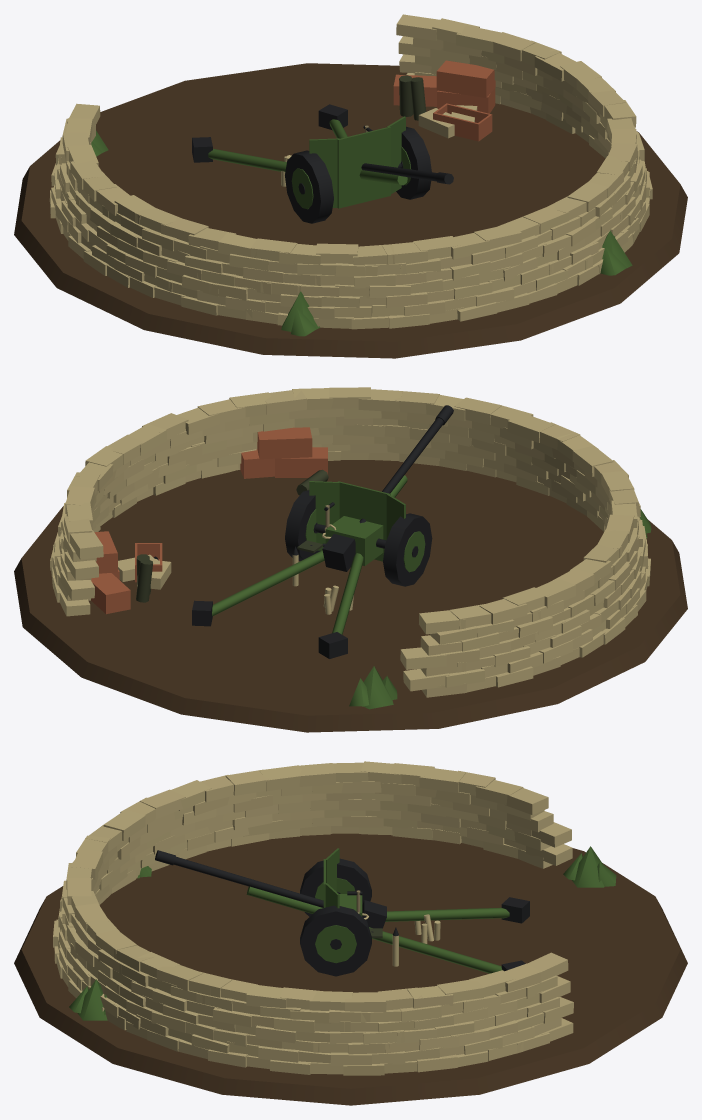
File: 105mm-howitzer-emplacement.glb
3 renders of one model, top to bottom at view 1: azimuth 30°, elevation 25°; view 2: azimuth 150°, elevation 25°; view 3: azimuth 270°, elevation 25°, orthographic.
Visible parts, largest first — view 1: Mesh_MudBase, Mesh_ShieldCenter, Mesh_TireR, Mesh_CrateStack1, Mesh_TireL, Mesh_ShieldRight, Mesh_TrailR, Mesh_Sandbag_6_0, Mesh_CrateBase, Mesh_Sandbag_6_2, Mesh_Sandbag_6_24, Mesh_Sandbag_6_22 (+31 smaller); view 2: Mesh_MudBase, Mesh_TireR, Mesh_ShieldCenter, Mesh_CrateStack5, Mesh_Carriage, Mesh_TrailL, Mesh_TireL, Mesh_CrateStack2, Mesh_ShieldLeft, Mesh_CrateStack3, Mesh_Breech, Mesh_TrailR (+40 smaller); view 3: Mesh_MudBase, Mesh_TireL, Mesh_TireR, Mesh_TrailR, Mesh_TrailL, Mesh_Barrel, Mesh_RimL, Mesh_Sandbag_6_35, Mesh_Sandbag_6_30, Mesh_Bush2_1, Mesh_Sandbag_6_38, Mesh_Sandbag_6_9 (+40 smaller).
Part boxes in pixels (box(x1,y1,x2,y2)): Mesh_MudBase: box(14, 63, 687, 358); Mesh_ShieldCenter: box(337, 126, 390, 208); Mesh_TireR: box(285, 150, 333, 223); Mesh_CrateStack1: box(436, 60, 495, 97); Mesh_TireL: box(396, 126, 431, 199); Mesh_ShieldRight: box(309, 138, 339, 207); Mesh_TrailR: box(208, 148, 286, 171); Mesh_Sandbag_6_0: box(396, 14, 439, 40); Mesh_CrateBase: box(437, 88, 495, 113); Mesh_Sandbag_6_2: box(456, 25, 500, 52); Mesh_Sandbag_6_24: box(316, 243, 358, 263); Mesh_Sandbag_6_22: box(381, 242, 427, 264); Mesh_MudBase: box(14, 460, 687, 732); Mesh_TireR: box(383, 513, 432, 586); Mesh_ShieldCenter: box(338, 481, 390, 561); Mesh_CrateStack5: box(257, 427, 312, 459); Mesh_Carriage: box(325, 516, 383, 565); Mesh_TrailL: box(212, 550, 324, 616); Mesh_TireL: box(285, 490, 320, 560); Mesh_CrateStack2: box(91, 573, 130, 614); Mesh_ShieldLeft: box(309, 481, 339, 550); Mesh_CrateStack3: box(275, 447, 327, 477); Mesh_Breech: box(322, 534, 355, 571); Mesh_TrailR: box(332, 553, 363, 634); Mesh_MudBase: box(14, 833, 687, 1105); Mesh_TireL: box(300, 905, 371, 976); Mesh_TireR: box(300, 858, 371, 916); Mesh_TrailR: box(385, 907, 509, 921); Mesh_TrailL: box(369, 927, 502, 973); Mesh_Barrel: box(173, 856, 323, 907); Mesh_RimL: box(315, 925, 356, 963); Mesh_Sandbag_6_35: box(419, 767, 465, 792); Mesh_Sandbag_6_30: box(259, 765, 301, 791); Mesh_Bush2_1: box(572, 846, 604, 887); Mesh_Sandbag_6_38: box(505, 788, 548, 814); Mesh_Sandbag_6_9: box(246, 984, 291, 1008).
Bounding box in the file's own units: 9 × 1.66 × 9.
4 materials, 4 textured.
